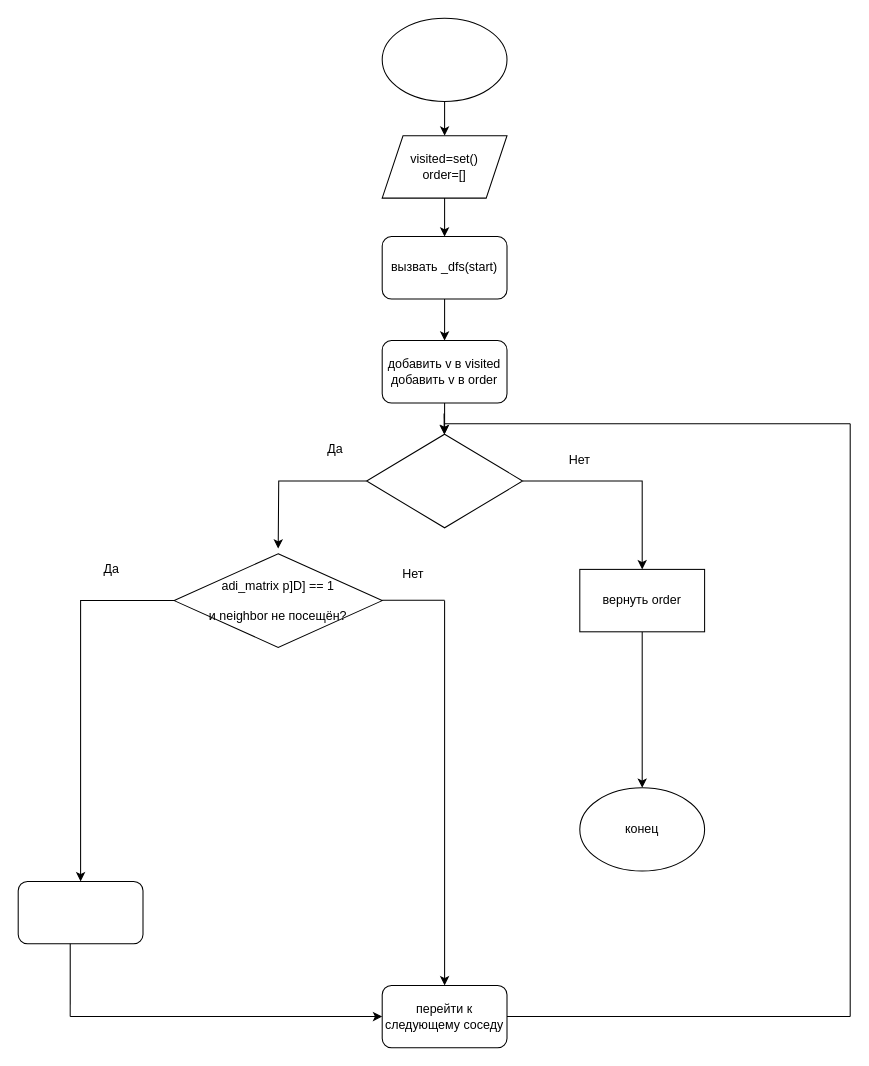
The diagram is 869 pixels wide and 1066 high, and some of its shapes have lost their labels. The shapes that lost their labels are listed below. From the top down, each one's centre as x and y in pixels, then its label:
At pixel 444 59: "начало".
At pixel 444 480: "есть ли следующий сосед?".
At pixel 80 912: "Вызвать _dfs(neighbor)".
